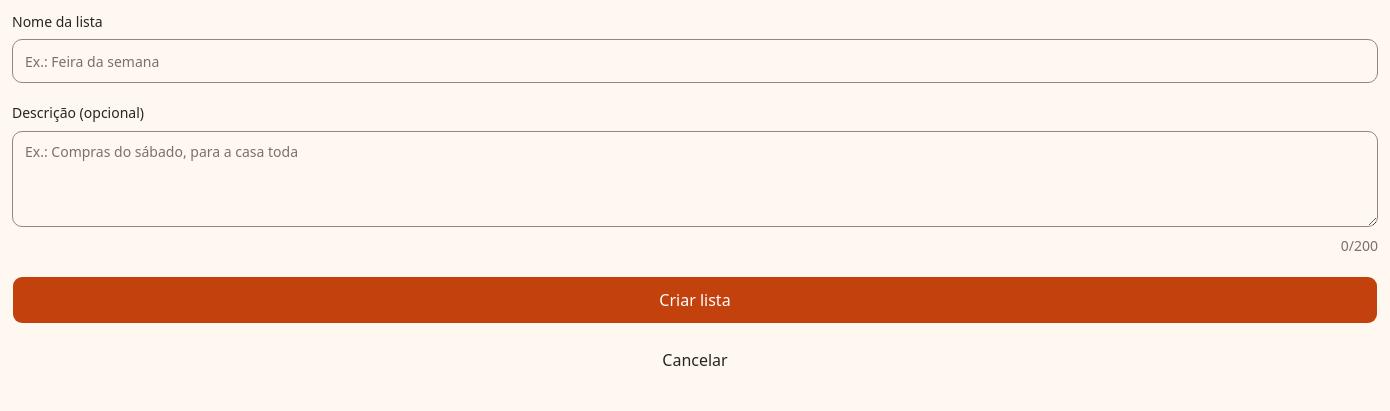
Test: NewListForm › requires a title and sends nothing without it
This screenshot has width=1390, height=411.
Step 1. Click the button "Criar lista" → click(695, 300), box [12,276,1378,324]
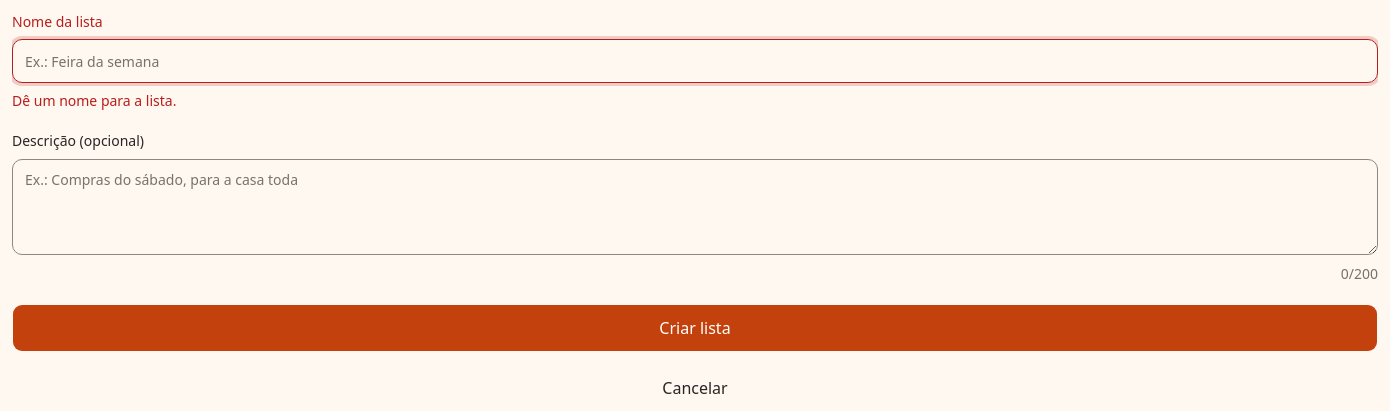
Check: the text "Dê um nome para a lista." is shown, box [12,91,176,110]
